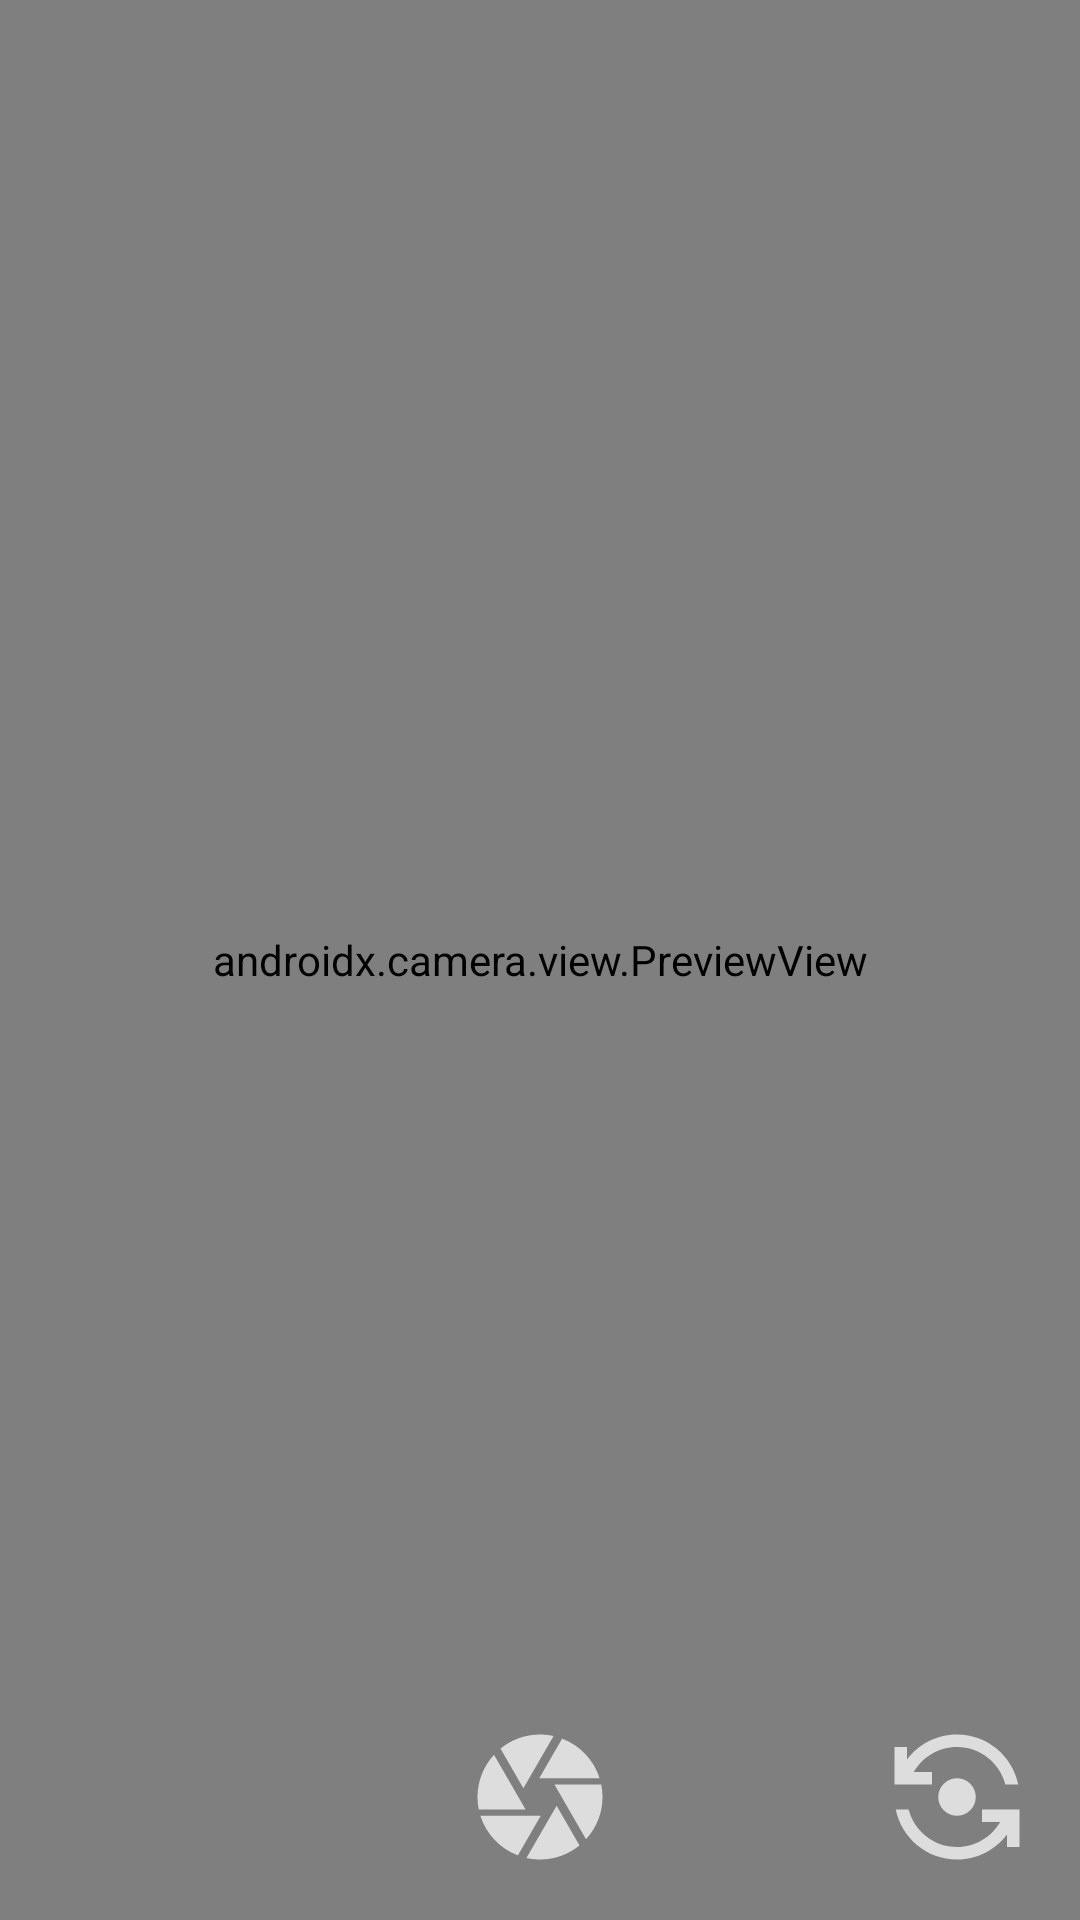

Locate icon controls on the screen. Image size 1080×1920, boxes as [left=x1, top=y1, right=x2, bottom=y2].
flip camera android: [left=894, top=1734, right=1020, bottom=1860]
